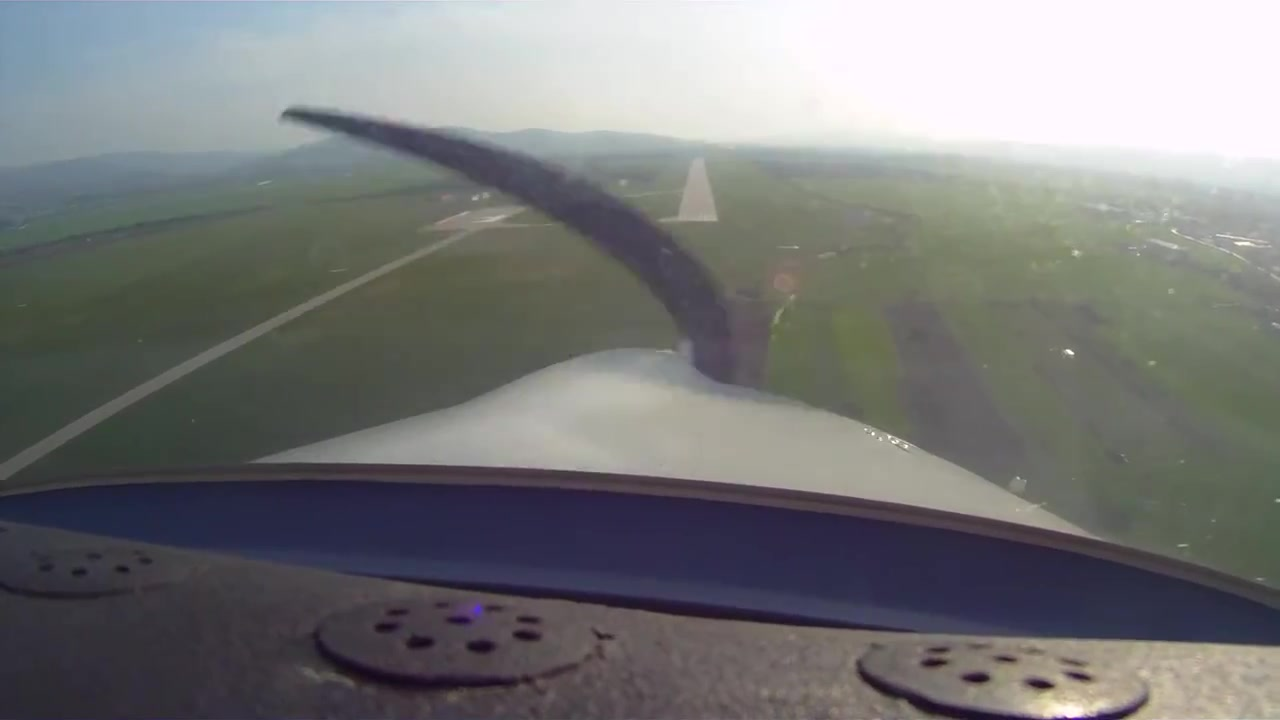runway: (673, 156, 721, 224)
